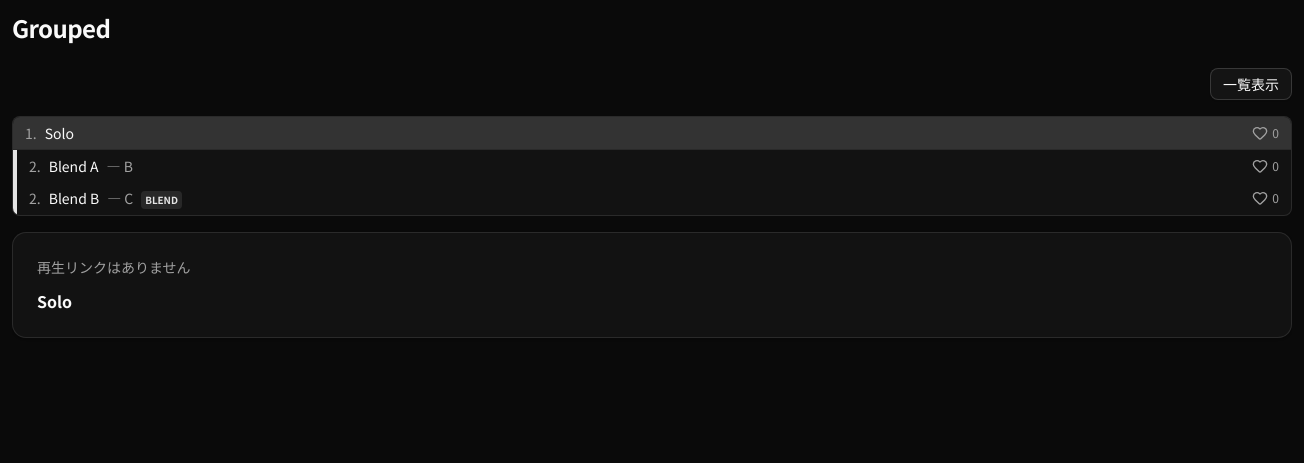
Test: SetlistPage › shows both tracks in the player when a grouped track is selected
The image size is (1304, 463).
Expected: the heading "Grouped" is shown, [12,12,110,44]
Click the button "2. Blend A — B" at coordinates (74, 166), box [17,150,1240,182]
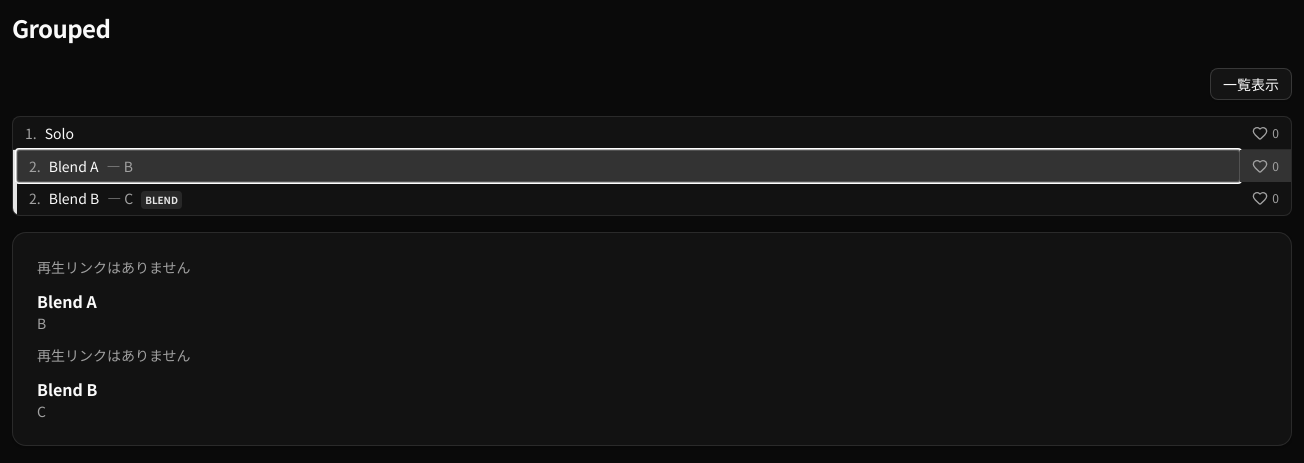
Result: the 2nd text "Blend A" is shown at [37,289,97,313]
Result: the 2nd text "Blend B" is shown at [37,377,97,401]
